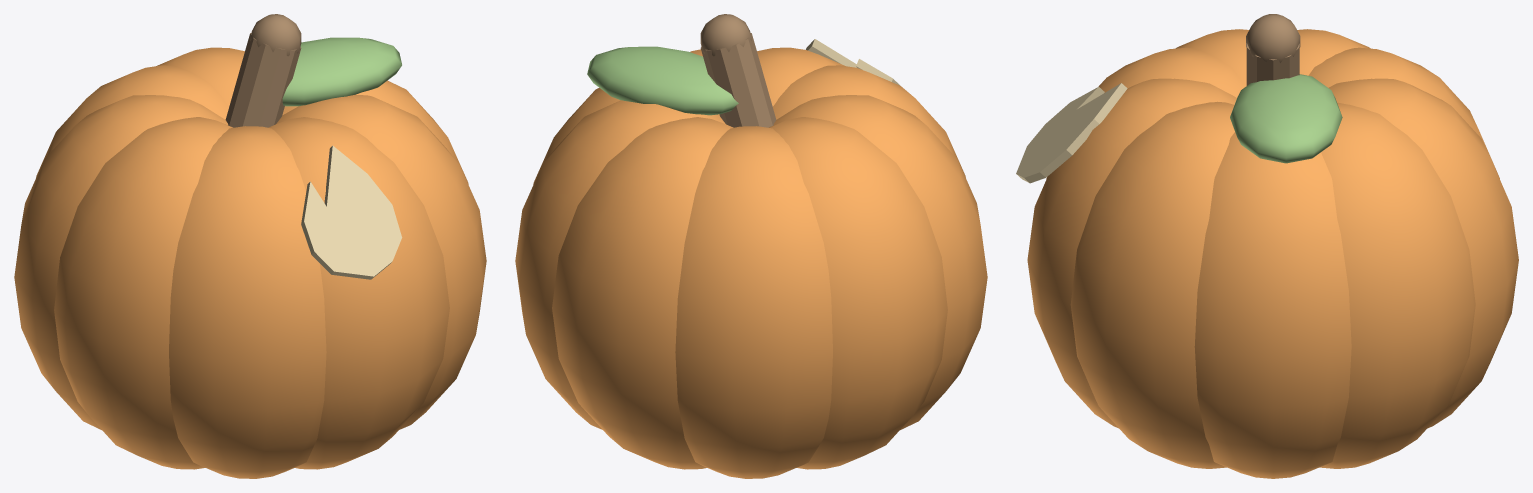
File: secret-pumpkin-flame.glb
3 renders of one model, left to right at view 1: azimuth 30°, elevation 25°; view 2: azimuth 150°, elevation 25°; view 3: azimuth 270°, elevation 25°, orthographic. The views are drawn at different scales.
Visible parts, largest first — view 1: secret-pumpkin-flame; view 2: secret-pumpkin-flame; view 3: secret-pumpkin-flame.
Boxes of the visible parts, x1=… form: secret-pumpkin-flame: x1=14, y1=14, x2=486, y2=478; secret-pumpkin-flame: x1=515, y1=14, x2=987, y2=478; secret-pumpkin-flame: x1=1016, y1=14, x2=1518, y2=478.
Size of the model in its own units: 0.5671 by 0.537 by 0.5797.
